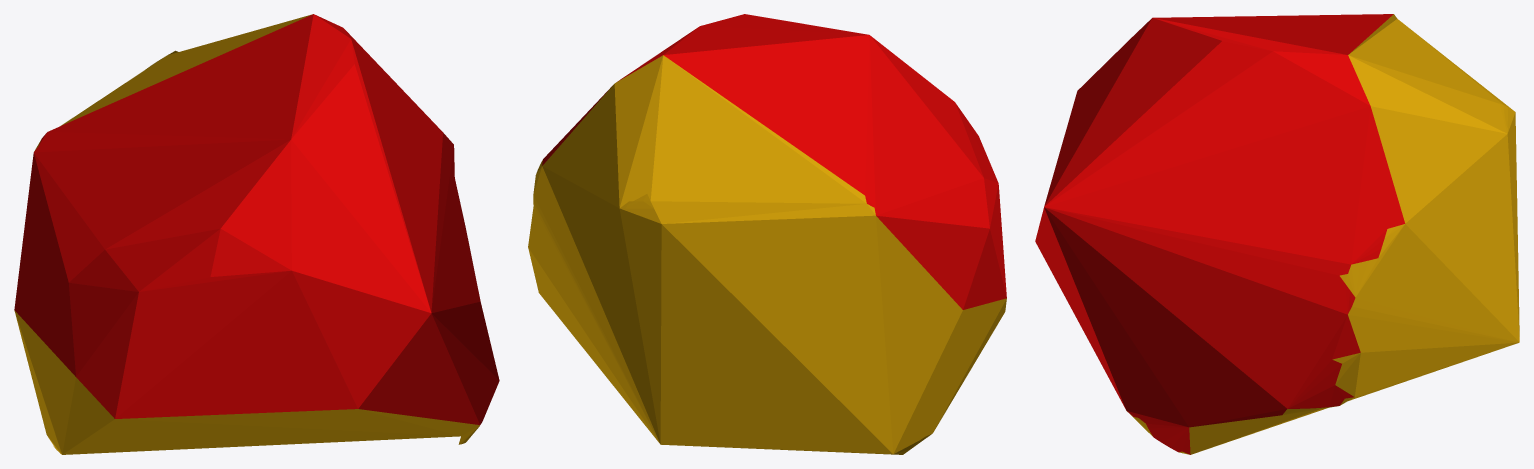
The model's file is SphereH_L8.fbx.
3 renders of one model, left to right at view 1: azimuth 30°, elevation 25°; view 2: azimuth 150°, elevation 25°; view 3: azimuth 270°, elevation 25°, orthographic. The views are drawn at different scales.
Bounding box in the file's own units: 1.98 × 1.59 × 1.87.
